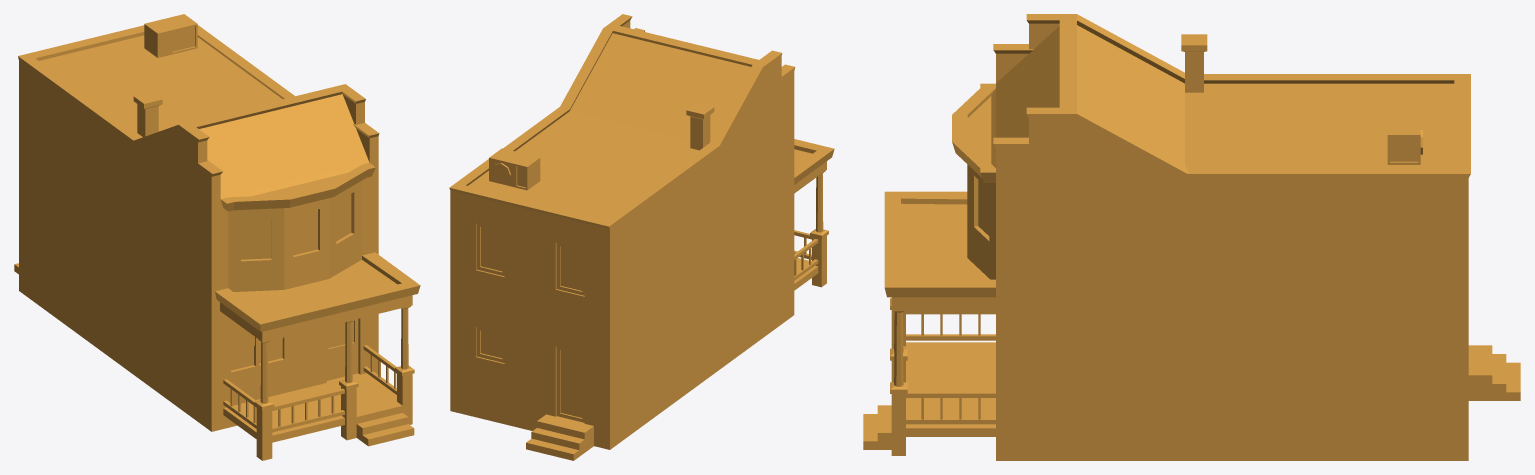
The model's file is building-house-block-old.fbx.
3 views of the same model, side by side, from view 1: azimuth 30°, elevation 25°; view 2: azimuth 150°, elevation 25°; view 3: azimuth 270°, elevation 25° (orthographic). The views are drawn at different scales.
Parts seen in each view (by area): view 1: building-house-block-old; view 2: building-house-block-old; view 3: building-house-block-old.
Boxes of the visible parts, bbox=[...] form: building-house-block-old: bbox=[14, 14, 420, 460]; building-house-block-old: bbox=[449, 14, 834, 460]; building-house-block-old: bbox=[863, 14, 1520, 460].
Bounding box in the file's own units: 5 × 8.1 × 13.9.
